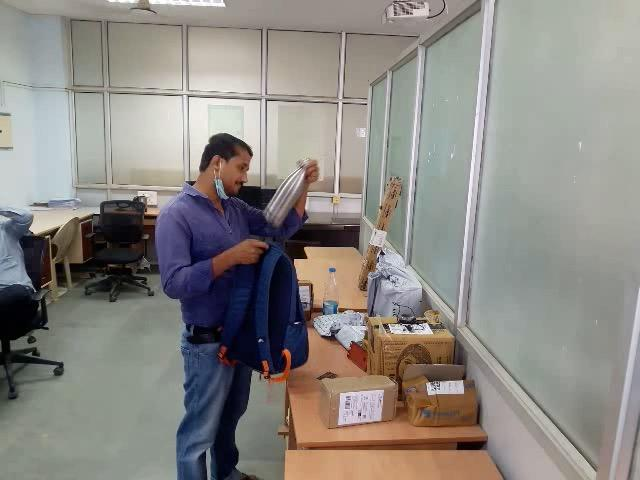shoplifting: (206, 136, 333, 395)
